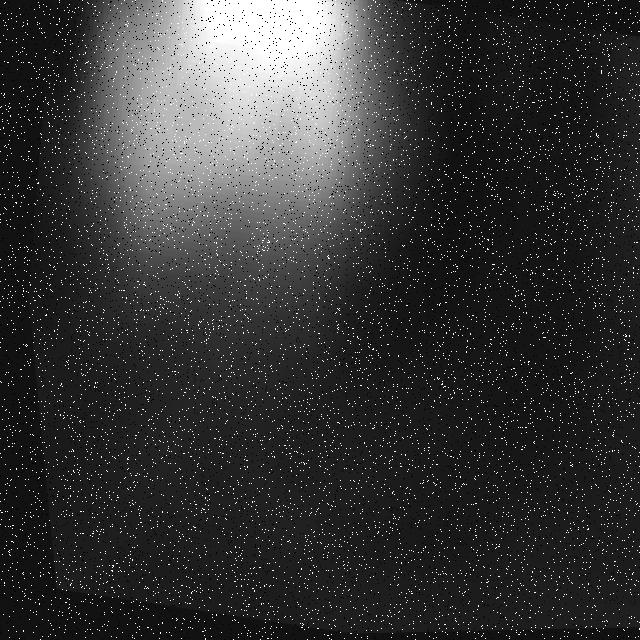person: (25, 1, 414, 430)
